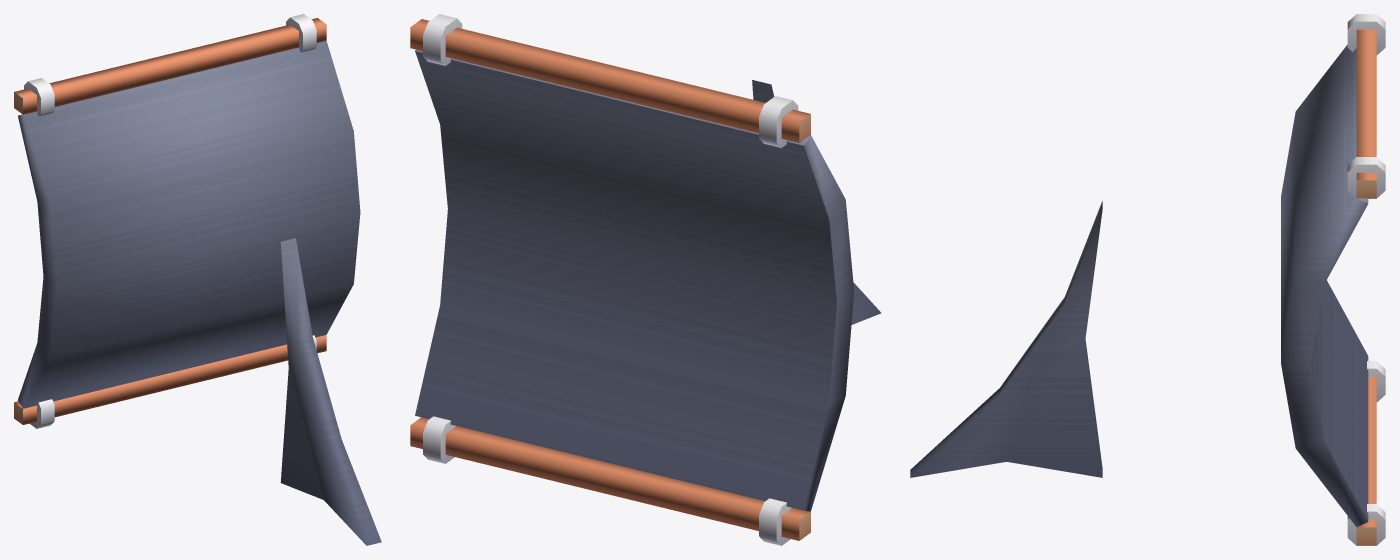
The model's file is sail_grey.glb.
3 views of the same model, side by side, from view 1: azimuth 30°, elevation 25°; view 2: azimuth 150°, elevation 25°; view 3: azimuth 270°, elevation 25° (orthographic). The views are drawn at different scales.
Visible parts, largest first — view 1: sail-a_grey; view 2: sail-a_grey; view 3: sail-a_grey.
Part boxes in pixels (x1,y1,x2,y2): sail-a_grey: [14, 14, 381, 545]; sail-a_grey: [410, 14, 881, 545]; sail-a_grey: [910, 14, 1385, 545].
Bounding box in the file's own units: 4.4 × 4.76 × 5.33.
1 material, 1 textured.
